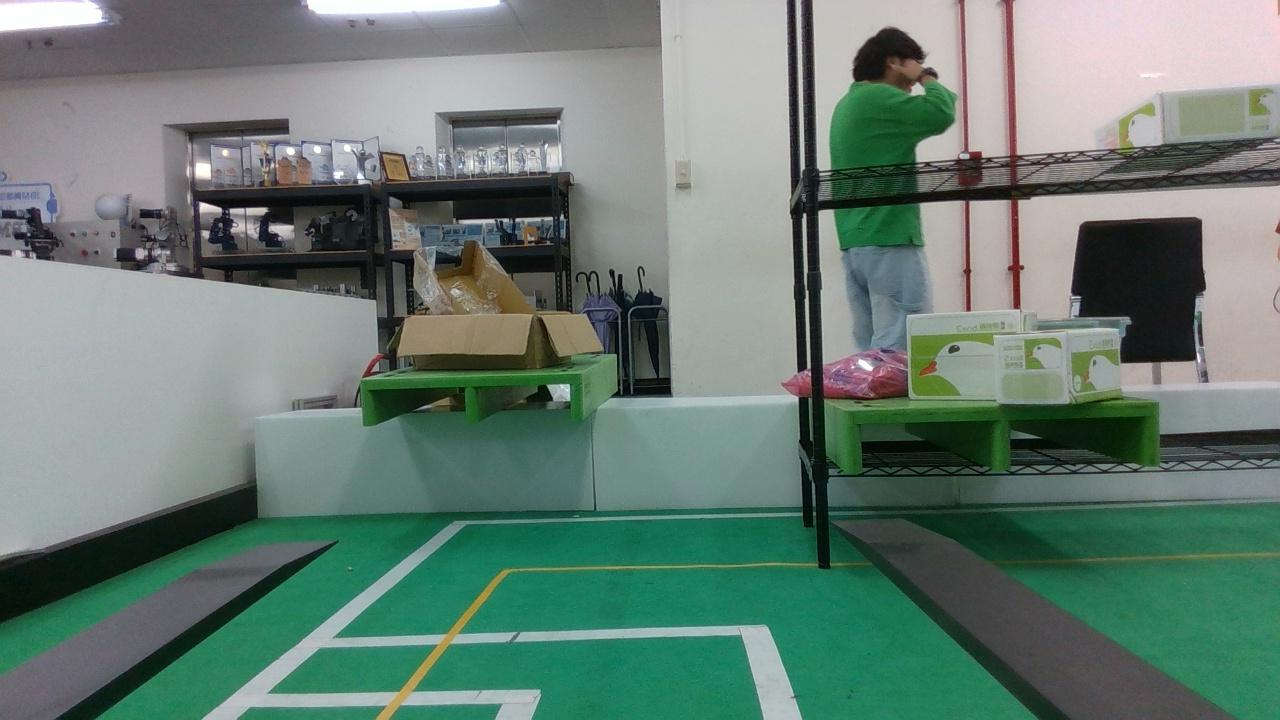Pallet: (842, 400, 1161, 475), (360, 372, 585, 427)
